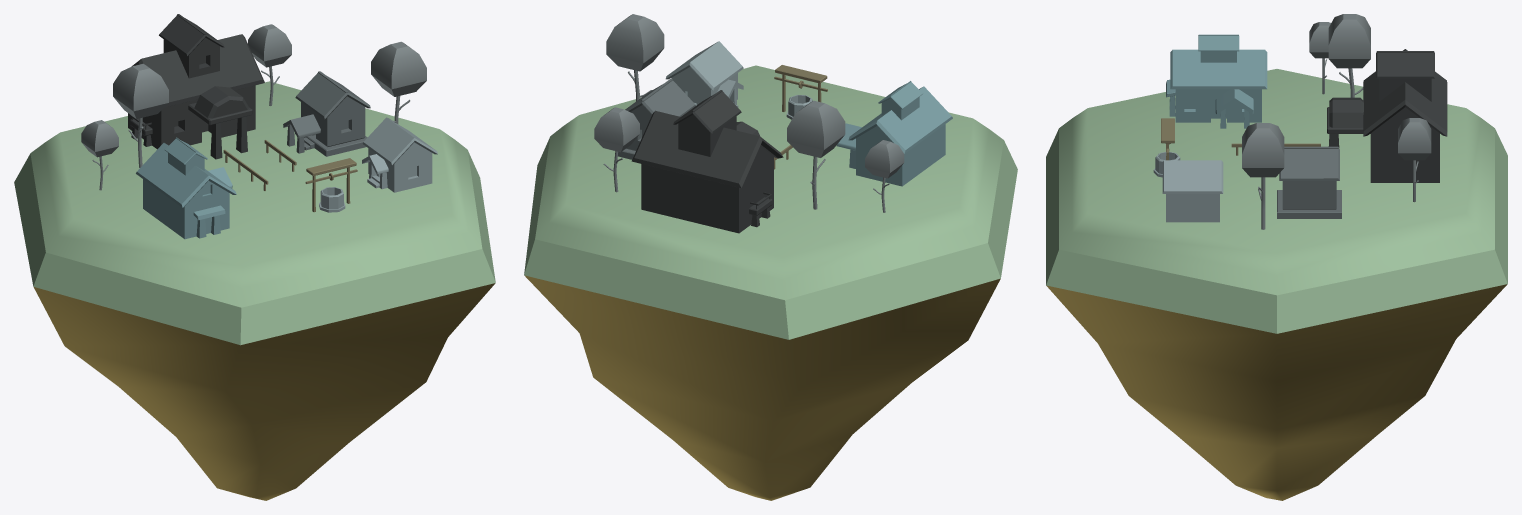
The model's file is Village_V3.fbx.
3 views of the same model, side by side, from view 1: azimuth 30°, elevation 25°; view 2: azimuth 150°, elevation 25°; view 3: azimuth 270°, elevation 25° (orthographic). The views are drawn at different scales.
Parts seen in each view (by area): view 1: polySurface474; view 2: polySurface474; view 3: polySurface474.
Part boxes in pixels (x1,y1,x2,y2): polySurface474: (14,14,495,500); polySurface474: (524,14,1017,500); polySurface474: (1046,14,1507,500).
Size of the model in its own units: 11.53 by 10.57 by 9.99.
